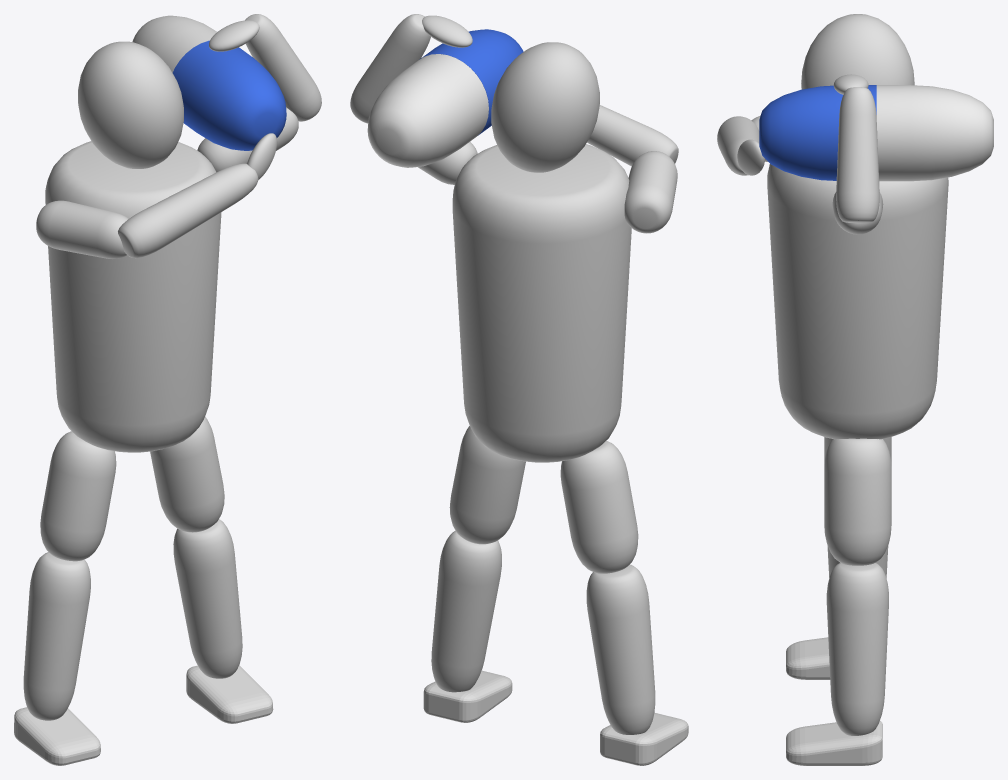
The model's file is Doll2.fbx.
3 views of the same model, side by side, from view 1: azimuth 30°, elevation 25°; view 2: azimuth 150°, elevation 25°; view 3: azimuth 270°, elevation 25° (orthographic). The views are drawn at different scales.
Parts seen in each view (by area): view 1: 円柱.025, 円柱.030, 球.007, 円柱.024, 円柱.022, 円柱.023, 円柱.007, 円柱.029, 円柱.028, 円柱.027, 立方体.005, 立方体.004 (+3 smaller); view 2: 円柱.025, 円柱.030, 球.007, 円柱.024, 円柱.022, 円柱.023, 円柱.007, 円柱.028, 円柱.027, 円柱.029, 立方体.005, 立方体.004 (+2 smaller); view 3: 円柱.025, 円柱.030, 円柱.022, 円柱.007, 球.007, 円柱.027, 立方体.004, 立方体.005, 円柱.029, 球.009, 円柱.026.
Boxes of the visible parts, x1,y1,x2,y2 form: 円柱.025: (45,141,221,452); 円柱.030: (132,15,286,150); 球.007: (78,41,183,168); 円柱.024: (23,552,90,720); 円柱.022: (173,519,242,678); 円柱.023: (40,431,116,561); 円柱.007: (150,416,224,532); 円柱.029: (118,163,258,258); 円柱.028: (36,200,128,258); 円柱.027: (245,14,321,121); 立方体.005: (14,707,100,765); 立方体.004: (186,665,273,723); 円柱.025: (452,144,631,462); 円柱.030: (367,29,523,167); 球.007: (491,42,599,172); 円柱.024: (586,564,655,734); 円柱.022: (431,530,501,692); 円柱.023: (560,440,638,573); 円柱.007: (449,426,525,544); 円柱.028: (624,151,677,233); 円柱.027: (350,14,430,123); 円柱.029: (587,105,678,166); 立方体.005: (600,712,688,765); 立方体.004: (423,670,512,722); 円柱.025: (767,164,948,439); 円柱.030: (759,85,993,181); 円柱.022: (826,563,888,735); 円柱.007: (824,438,891,565); 球.007: (801,14,914,89); 円柱.027: (836,87,879,222); 立方体.004: (786,721,882,765); 立方体.005: (786,637,830,679); 円柱.029: (717,116,759,175); 球.009: (737,139,764,175); 円柱.026: (832,192,883,234).
Bounding box in the file's own units: 0.6968 × 1.5 × 0.5448.
